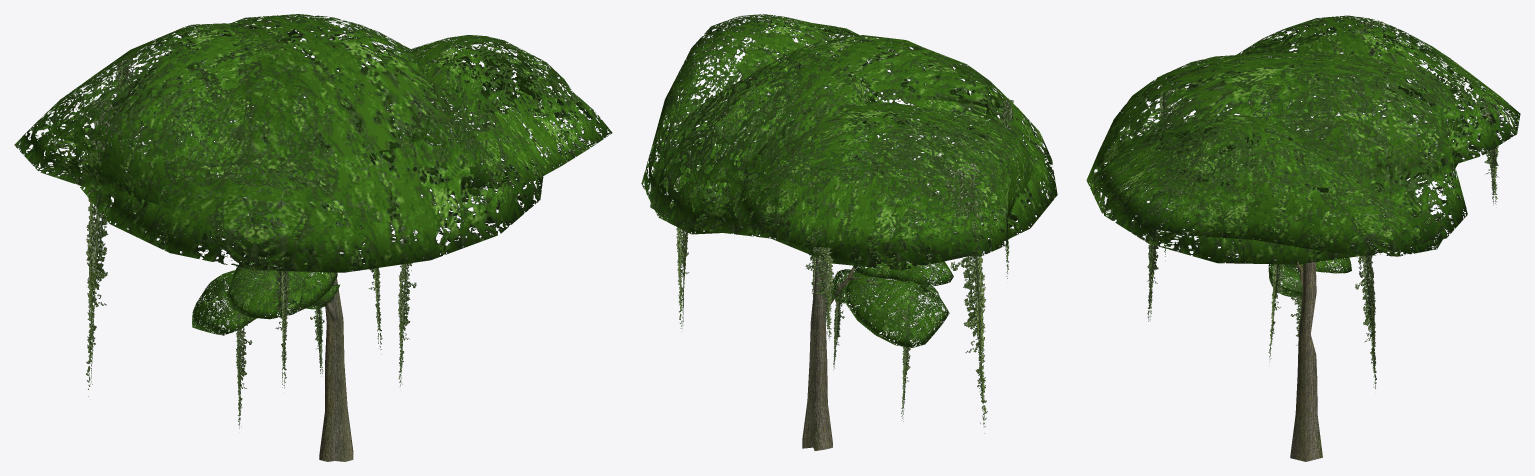
The model's file is jungle_tree.glb.
3 renders of one model, left to right at view 1: azimuth 30°, elevation 25°; view 2: azimuth 150°, elevation 25°; view 3: azimuth 270°, elevation 25°, orthographic. The views are drawn at different scales.
Visible parts, largest first — view 1: JungleTree1; view 2: JungleTree1; view 3: JungleTree1.
Part boxes in pixels (x1,y1,x2,y2): JungleTree1: (14,14,612,461); JungleTree1: (641,14,1057,450); JungleTree1: (1086,15,1520,461).
Size of the model in its own units: 19.1 by 17.57 by 18.04.
Materials: 3 (3 with a texture image).
